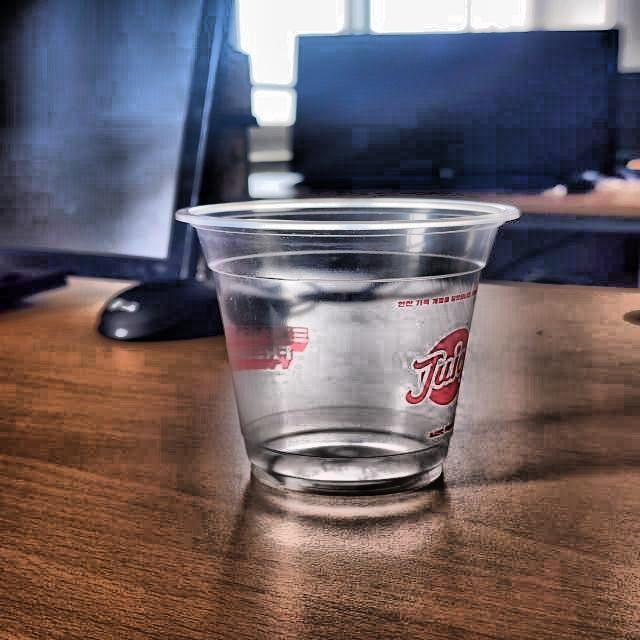plastic cup: (172, 195, 525, 500)
